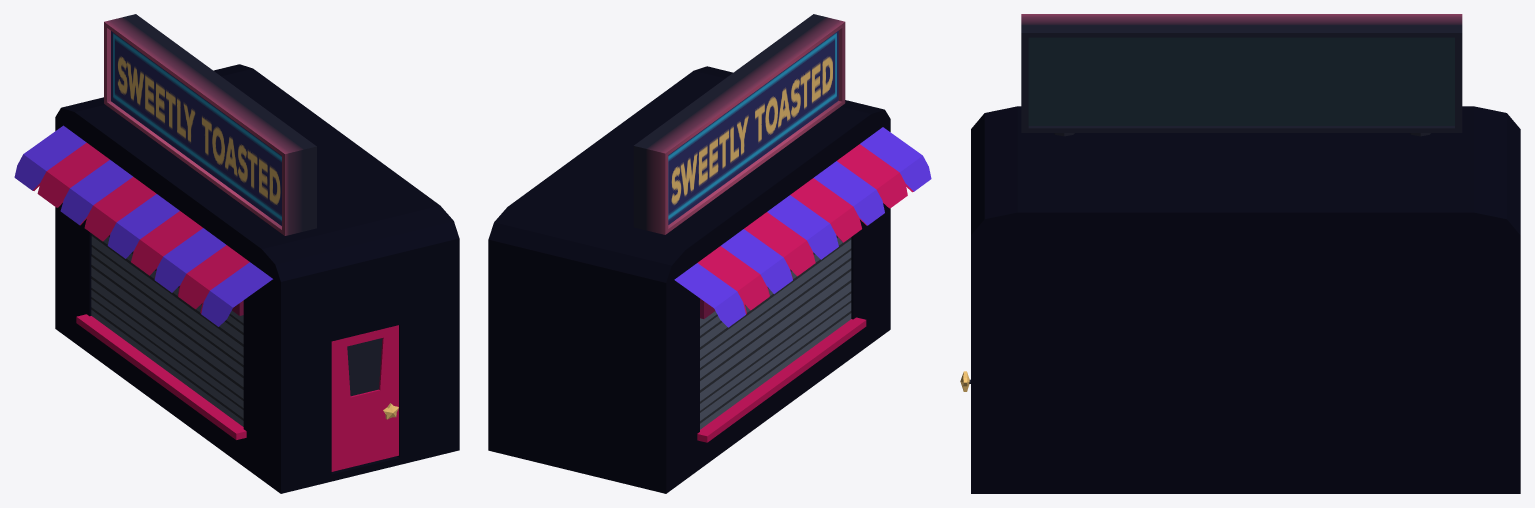
File: Building_StreetCart02.fbx
The picture shows the model from 3 angles, left to right: view 1: azimuth 30°, elevation 25°; view 2: azimuth 150°, elevation 25°; view 3: azimuth 270°, elevation 25°; orthographic projection. The views are drawn at different scales.
Parts seen in each view (by area): view 1: Cube.724, Cube.726, Cube.722, Cube.725; view 2: Cube.724, Cube.726, Cube.722; view 3: Cube.724, Cube.726.
Part boxes in pixels (box(x1,y1,x2,y2)): Cube.724: box(14, 64, 459, 493); Cube.726: box(104, 14, 316, 235); Cube.722: box(91, 234, 243, 426); Cube.725: box(331, 325, 398, 471); Cube.724: box(488, 66, 931, 493); Cube.726: box(633, 14, 845, 234); Cube.722: box(700, 236, 851, 429); Cube.724: box(971, 106, 1520, 493); Cube.726: box(1021, 14, 1462, 136).
Bounding box in the file's own units: 218 × 288 × 376.
